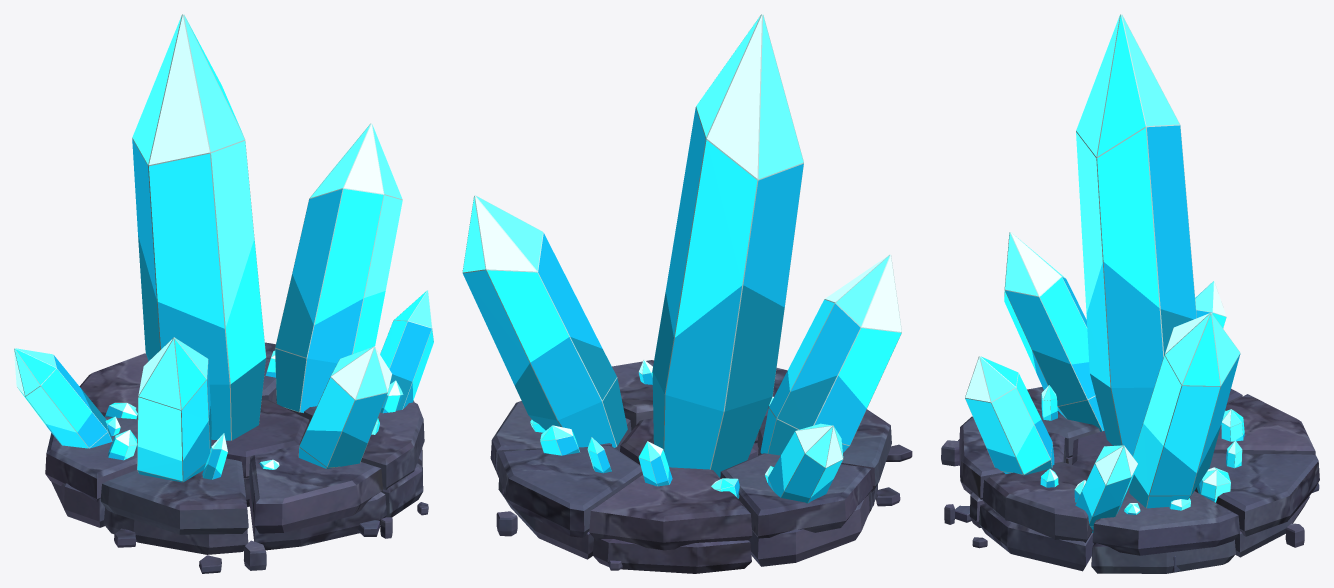
Rendered from SM_CC_CrystalCyan.fbx.
The picture shows the model from 3 angles, left to right: view 1: azimuth 30°, elevation 25°; view 2: azimuth 150°, elevation 25°; view 3: azimuth 270°, elevation 25°; orthographic projection. The views are drawn at different scales.
Parts seen in each view (by area): view 1: SM_CC_CrystalCyan; view 2: SM_CC_CrystalCyan; view 3: SM_CC_CrystalCyan.
Part boxes in pixels (x1,y1,x2,y2): SM_CC_CrystalCyan: (14, 14, 433, 573); SM_CC_CrystalCyan: (462, 14, 912, 573); SM_CC_CrystalCyan: (941, 14, 1319, 573).
Size of the model in its own units: 1.6 by 1.5 by 2.
